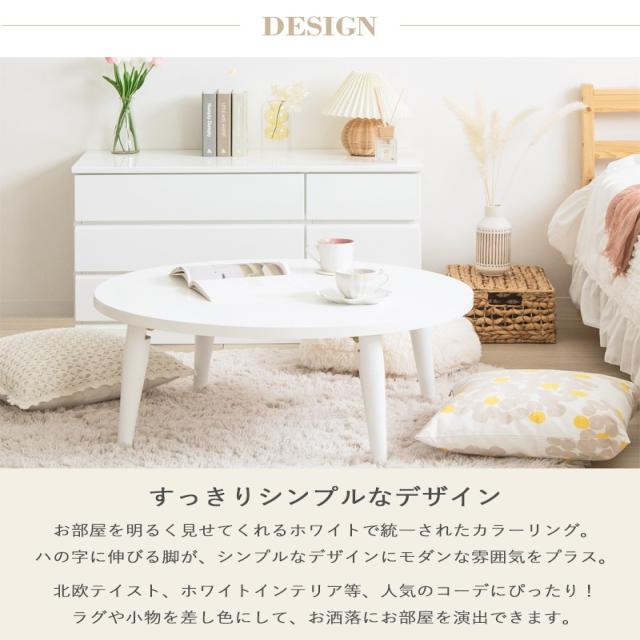white desk: (80, 251, 479, 468)
